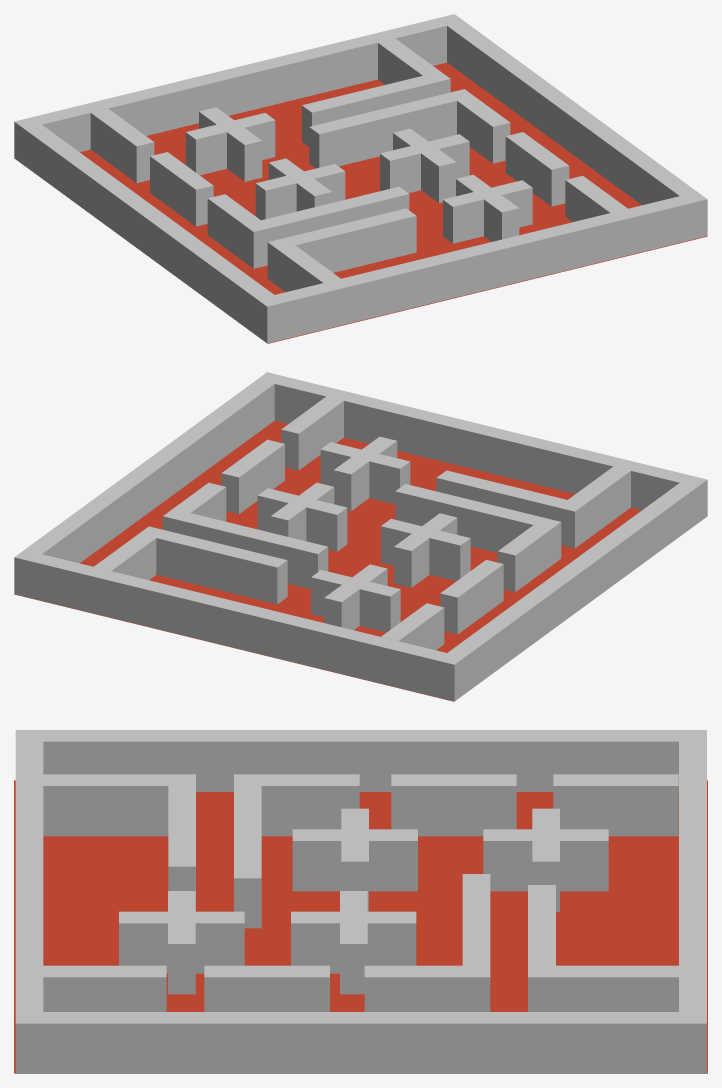
File: mapfbxVersion1.fbx
The picture shows the model from 3 angles, top to bottom: view 1: azimuth 30°, elevation 25°; view 2: azimuth 150°, elevation 25°; view 3: azimuth 270°, elevation 25°; orthographic projection. The views are drawn at different scales.
Parts seen in each view (by area): view 1: Wall_01, Ground, Wall_In_03, Wall_In_01, Wall_In_04, Wall_In_02, Wall_In_12, Wall_In_10, Wall_In_11, Wall_In_09, Wall_In_08, Wall_In_05 (+2 smaller); view 2: Wall_01, Ground, Wall_In_02, Wall_In_04, Wall_In_01, Wall_In_03, Wall_In_09, Wall_In_10, Wall_In_12, Wall_In_11, Wall_In_07, Wall_In_05 (+2 smaller); view 3: Wall_01, Ground, Wall_In_01, Wall_In_04, Wall_In_02, Wall_In_03, Wall_In_09, Wall_In_10, Wall_In_11, Wall_In_12, Wall_In_07, Wall_In_08 (+2 smaller).
Boxes of the visible parts, left/top/right/bottom form: Wall_01: left=14, top=14, right=707, bottom=343; Ground: left=80, top=62, right=707, bottom=343; Wall_In_03: left=309, top=89, right=510, bottom=168; Wall_In_01: left=267, top=208, right=416, bottom=291; Wall_In_04: left=207, top=186, right=409, bottom=268; Wall_In_02: left=302, top=38, right=450, bottom=146; Wall_In_12: left=185, top=107, right=275, bottom=181; Wall_In_10: left=443, top=174, right=532, bottom=243; Wall_In_11: left=380, top=128, right=469, bottom=202; Wall_In_09: left=255, top=158, right=345, bottom=220; Wall_In_08: left=90, top=108, right=154, bottom=182; Wall_In_05: left=505, top=132, right=569, bottom=206; Wall_01: left=14, top=372, right=707, bottom=701; Ground: left=14, top=420, right=641, bottom=701; Wall_In_02: left=94, top=526, right=287, bottom=604; Wall_In_04: left=395, top=484, right=561, bottom=592; Wall_In_01: left=436, top=466, right=630, bottom=548; Wall_In_03: left=162, top=482, right=328, bottom=588; Wall_In_09: left=381, top=513, right=470, bottom=587; Wall_In_10: left=320, top=436, right=410, bottom=510; Wall_In_12: left=311, top=564, right=400, bottom=632; Wall_In_11: left=257, top=482, right=347, bottom=551; Wall_In_07: left=440, top=560, right=503, bottom=634; Wall_In_05: left=221, top=439, right=284, bottom=514; Wall_01: left=15, top=730, right=706, bottom=1073; Ground: left=14, top=780, right=707, bottom=1073; Wall_In_01: left=43, top=774, right=195, bottom=911; Wall_In_04: left=234, top=774, right=359, bottom=928; Wall_In_02: left=528, top=885, right=679, bottom=1011; Wall_In_03: left=364, top=874, right=490, bottom=1011; Wall_In_09: left=292, top=808, right=417, bottom=911; Wall_In_10: left=119, top=891, right=244, bottom=994; Wall_In_11: left=291, top=891, right=416, bottom=994; Wall_In_12: left=483, top=808, right=608, bottom=911; Wall_In_07: left=391, top=774, right=516, bottom=836; Wall_In_08: left=553, top=774, right=678, bottom=836.
Size of the model in its own units: 10022 by 800 by 10012.
